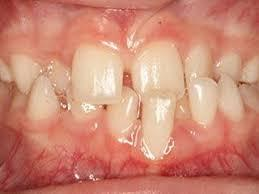Spaced: (124, 70, 132, 89)
